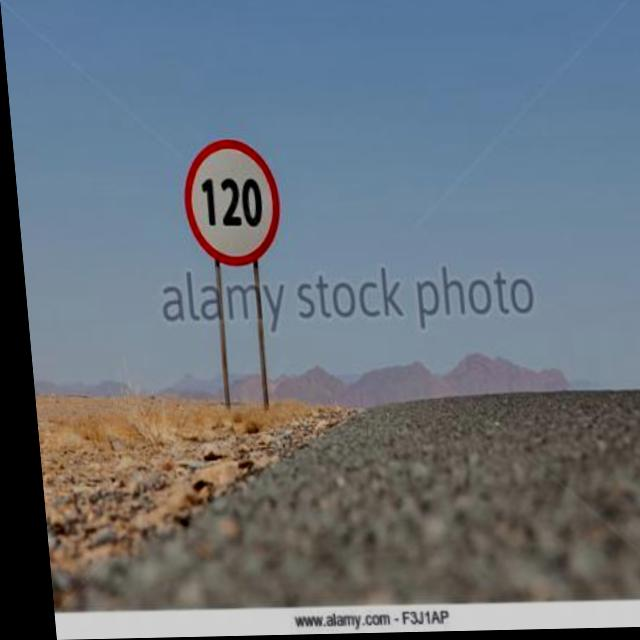limit120: (169, 138, 286, 271)
